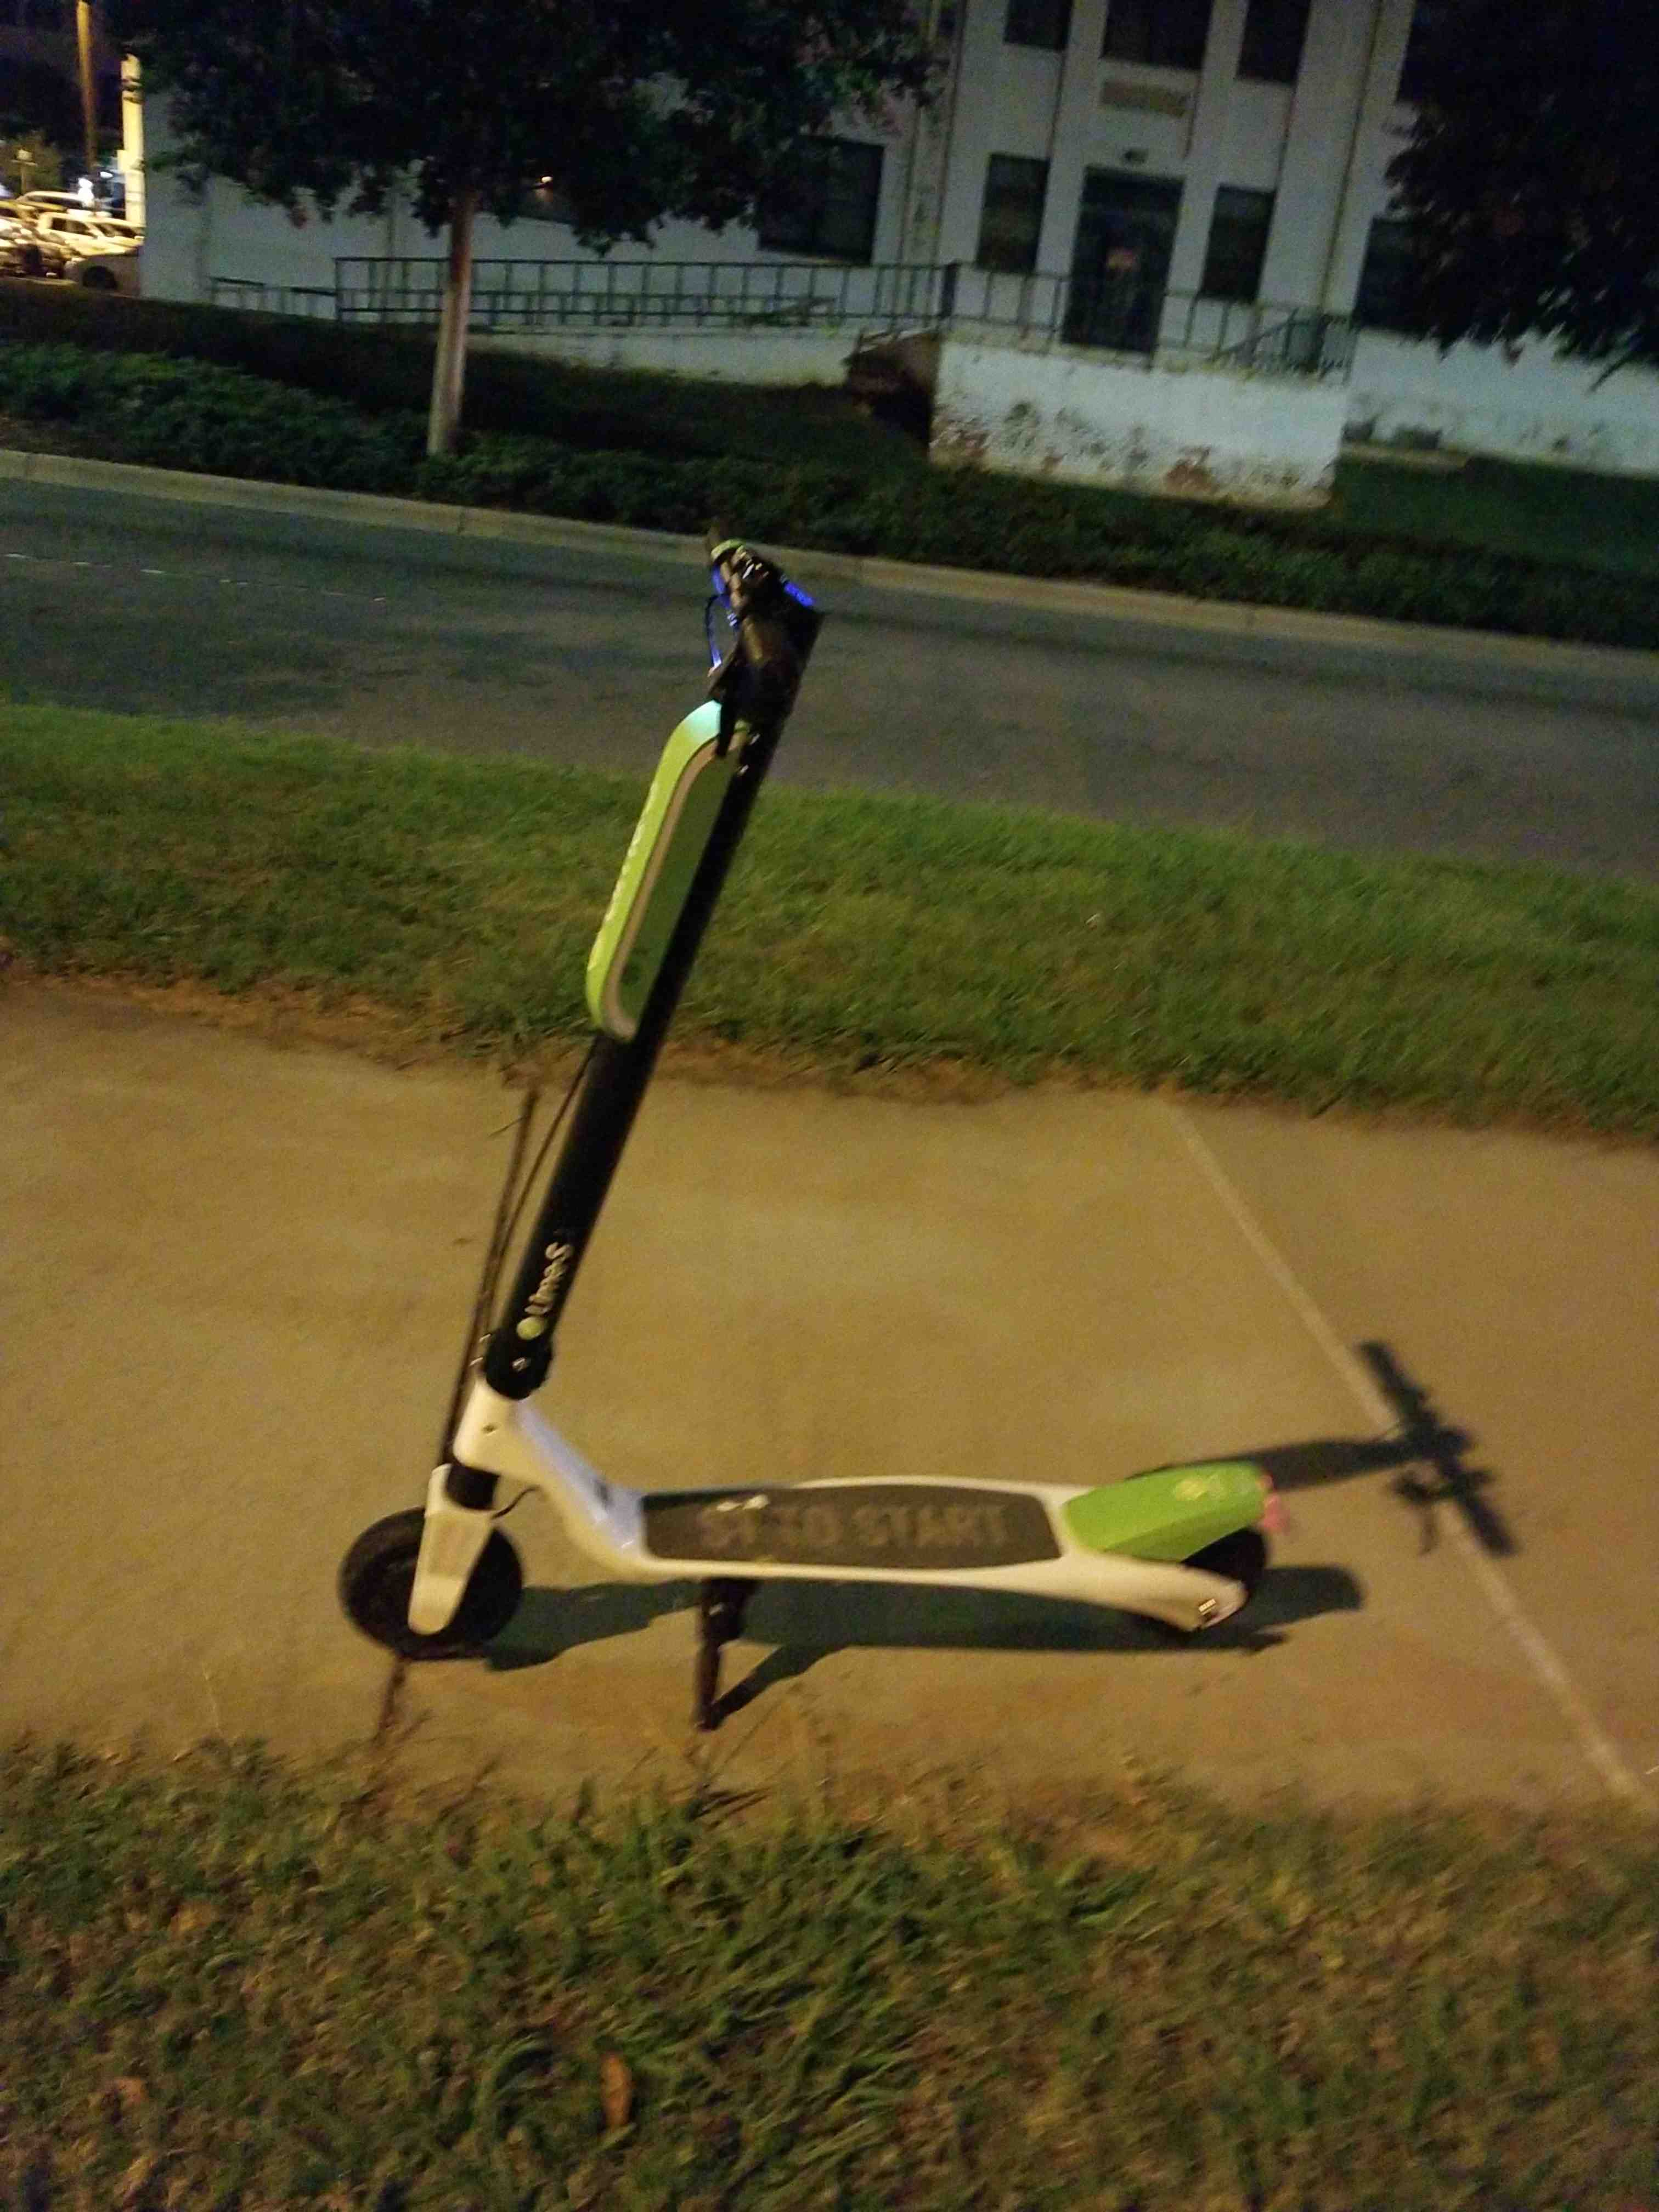scooter: (336, 493, 1371, 1693)
